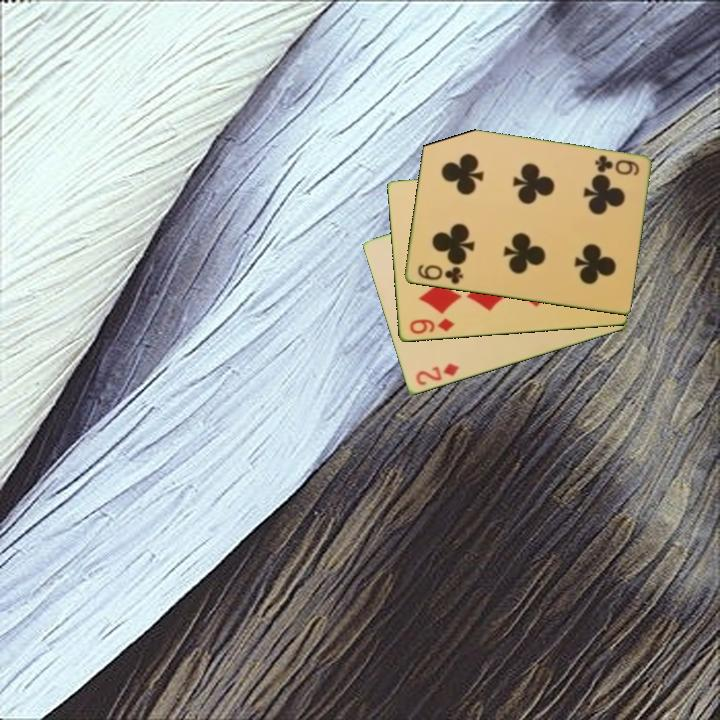2d: (412, 360, 461, 389)
6c: (591, 152, 642, 179), (414, 261, 466, 287)
9d: (406, 315, 457, 337)
